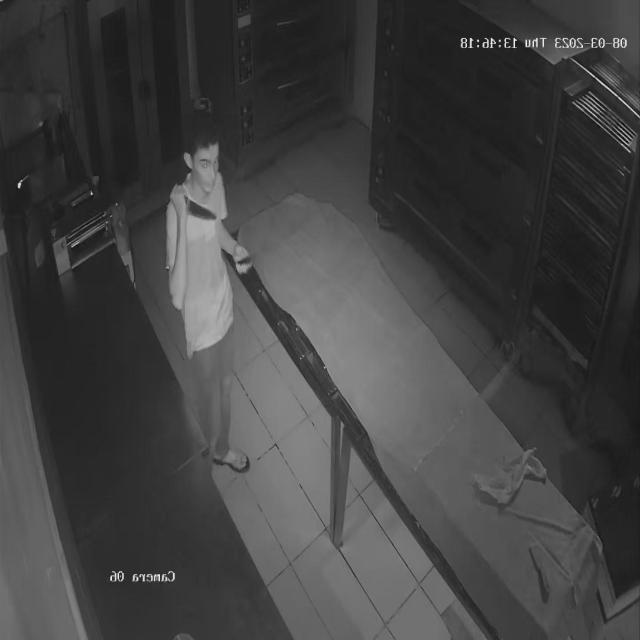Knife: (160, 183, 227, 226)
